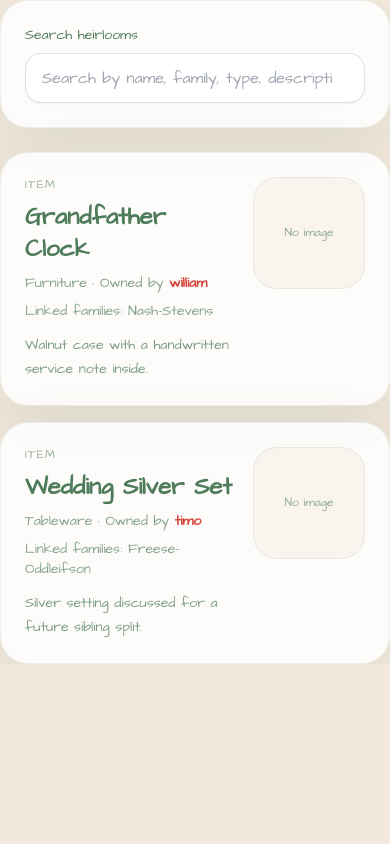
Test: ItemsPageContent › filters visible heirlooms by family, type, description, and owner fields
Type "freese" into the search field labelled "Search heirlooms" at (195, 78), box [25,53,365,103]
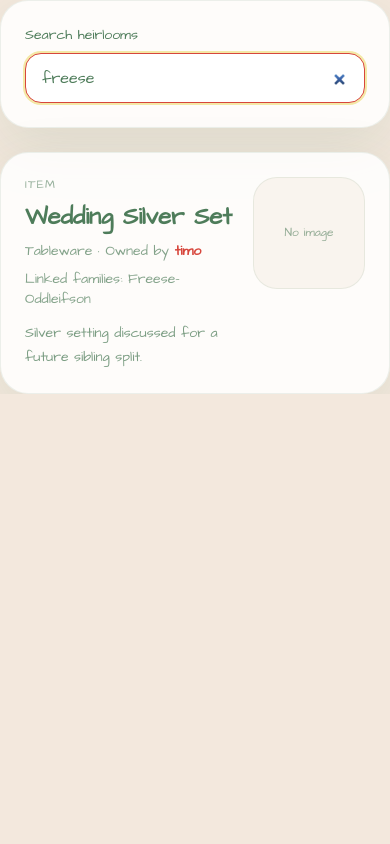
Check: the link "Wedding Silver Set" is shown, box [25,200,232,234]
Check: the link "Grandfather Clock" is gone
Replace the text in the search field labelled "Search heirlooms" with "tableware" at (195, 78), box [25,53,365,103]
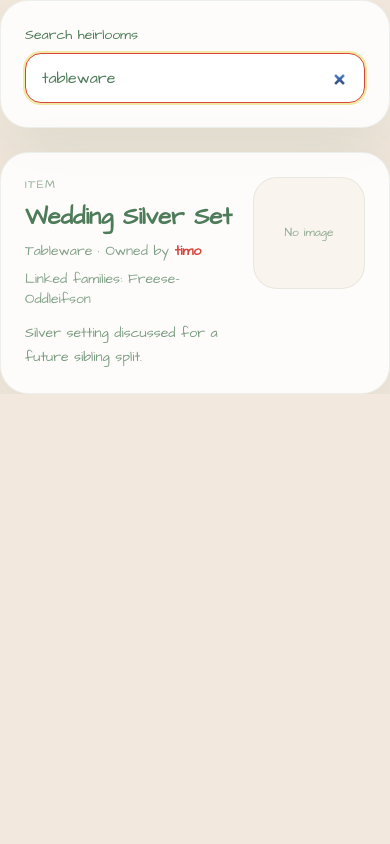
Check: the link "Wedding Silver Set" is shown, box [25,200,232,234]
Check: the link "Grandfather Clock" is not shown
Replace the text in the search field labelled "Search heirlooms" with "handwritten service note" at (195, 78), box [25,53,365,103]
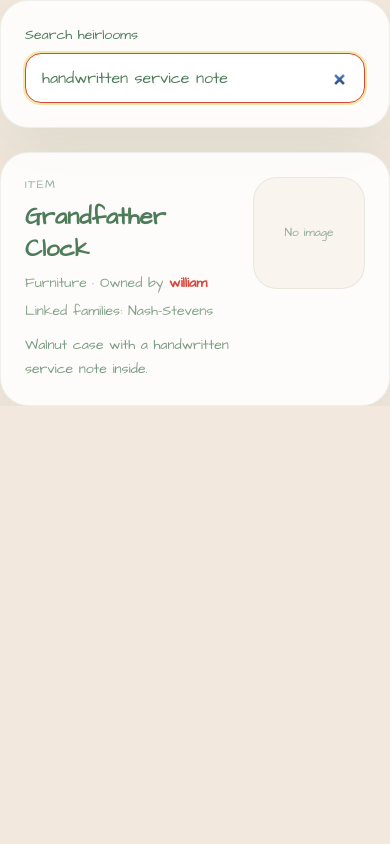
Check: the link "Wedding Silver Set" is not shown
Check: the link "Grandfather Clock" is shown, box [25,200,166,266]
Replace the text in the search field labelled "Search heirlooms" with "timo" at (195, 78), box [25,53,365,103]
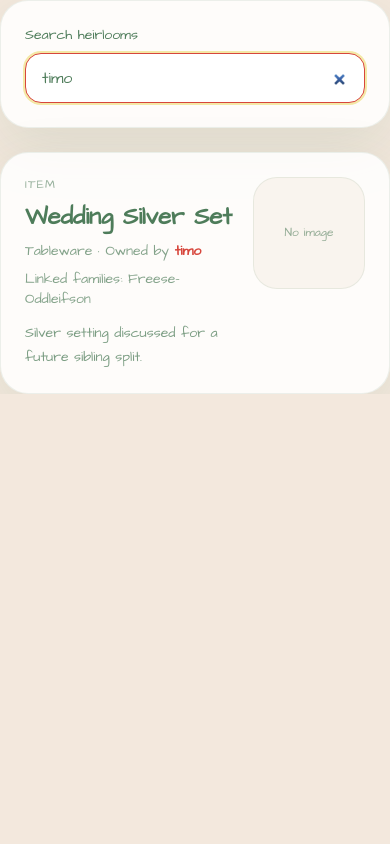
Check: the link "Wedding Silver Set" is shown, box [25,200,232,234]
Check: the link "Grandfather Clock" is gone
